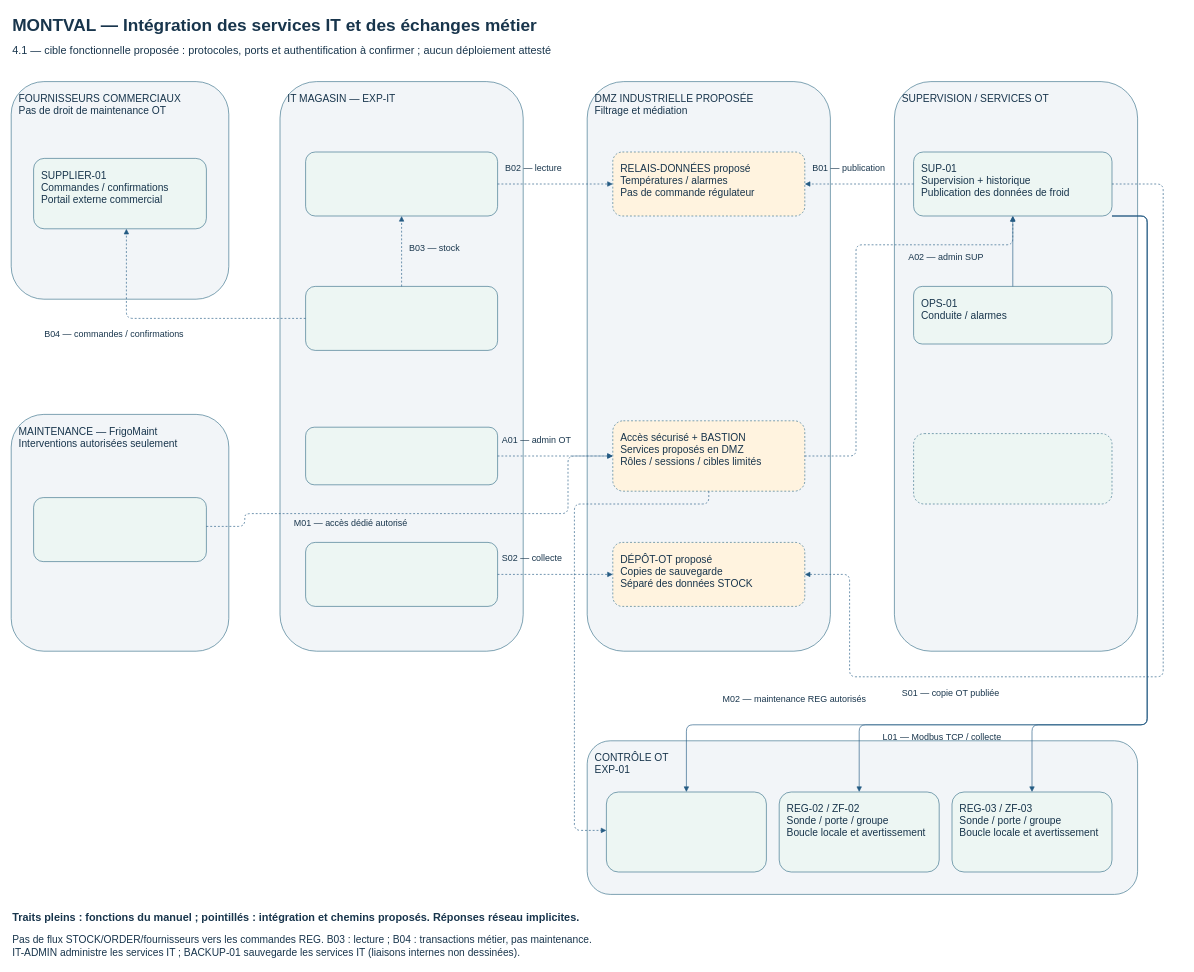
Some shapes in this 1194 by 972 pixel diagram are drawn without their labels. Here are the shapes that lost their labels. From the top down, the centre of each, then its label:
pixel 401 183: STOCK-01 Produits / lots / stocks Consulte les données de froid
pixel 401 318: ORDER-01 Commandes / réassort
pixel 401 456: IT-ADMIN Administration IT
pixel 1012 468: Services OT de J3 Référence de temps proposée Support / autonomie à confirmer
pixel 119 529: MAINT-01 Prestataire frigorifique Accès ponctuel autorisé
pixel 401 574: BACKUP-01 Sauvegarde IT + copies OT Périmètre / restauration à fixer
pixel 686 831: REG-01 / ZF-01 Sonde / porte / groupe Boucle locale et avertissement
